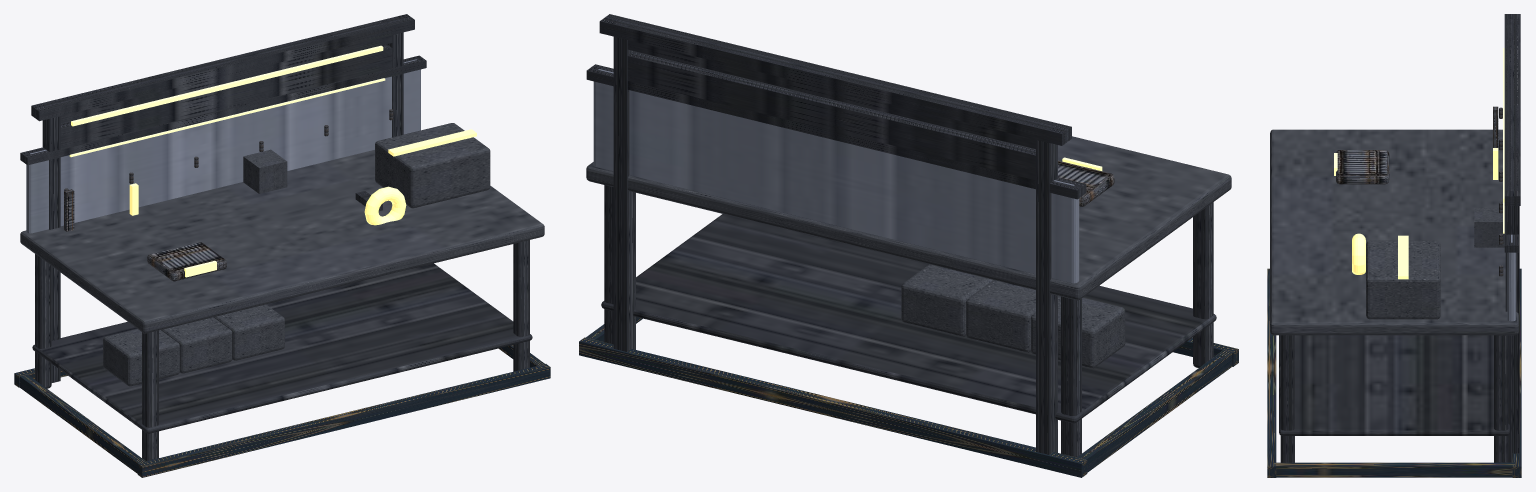
File: warehouse_packbench.glb
The picture shows the model from 3 angles, left to right: view 1: azimuth 30°, elevation 25°; view 2: azimuth 150°, elevation 25°; view 3: azimuth 270°, elevation 25°; orthographic projection. The views are drawn at different scales.
Parts seen in each view (by area): view 1: top, shelf, peg, sight_shell, parcel, shelltoe0, shellrim0, stock0, stock2, stock1, shelltoes0, leg0 (+8 smaller); view 2: shelf, peg, sight_shell, top, shelltoe2, shellrim2, stock2, stock1, shelltoes0, leg2, leg0, stock0 (+2 smaller); view 3: top, shelf, sight_shell, parcel, shelltoes2, scale, leg1, leg3, shelltoe0, spool, shelltoe2, peg (+3 smaller).
Part boxes in pixels (x1,y1,x2,y2): top: (20,150,544,333); shelf: (32,263,532,433); peg: (26,59,420,233); sight_shell: (31,14,414,382); parcel: (375,123,490,208); shelltoe0: (137,364,550,477); shellrim0: (23,57,426,165); stock0: (103,329,179,386); stock2: (213,304,284,360); stock1: (161,317,232,373); shelltoes0: (19,374,146,473); leg0: (142,330,158,461); shelf: (601,214,1216,423); peg: (593,69,1079,283); sight_shell: (599,14,1071,454); top: (586,136,1231,300); shelltoe2: (579,337,1087,477); shellrim2: (586,68,1082,199); stock2: (901,264,993,336); stock1: (966,280,1058,352); shelltoes0: (1075,349,1233,472); leg2: (1061,296,1081,457); leg0: (1193,202,1213,367); stock0: (1031,296,1125,368); top: (1270,129,1518,335); shelf: (1279,335,1509,435); sight_shell: (1504,14,1520,462); parcel: (1366,240,1440,319); shelltoes2: (1273,462,1515,477); scale: (1336,150,1389,184); leg1: (1280,335,1294,462); leg3: (1494,335,1508,462); shelltoe0: (1267,268,1276,477); spool: (1474,208,1504,247); shelltoe2: (1512,268,1521,477); peg: (1507,234,1516,321).
Size of the model in its own units: 2.64 by 1.7 by 1.43.
Materials: 9 (7 with a texture image).
